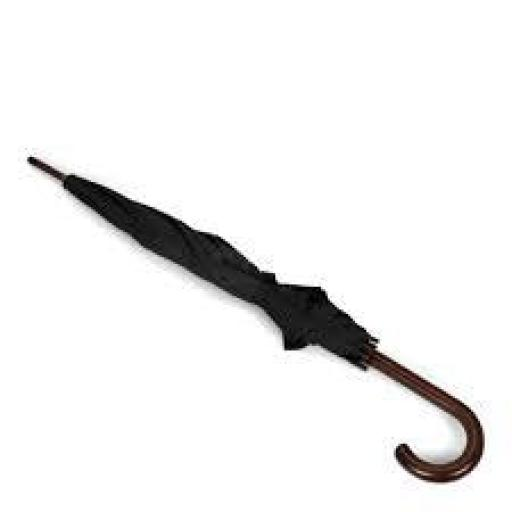guarda_chuva: (25, 152, 485, 482)
